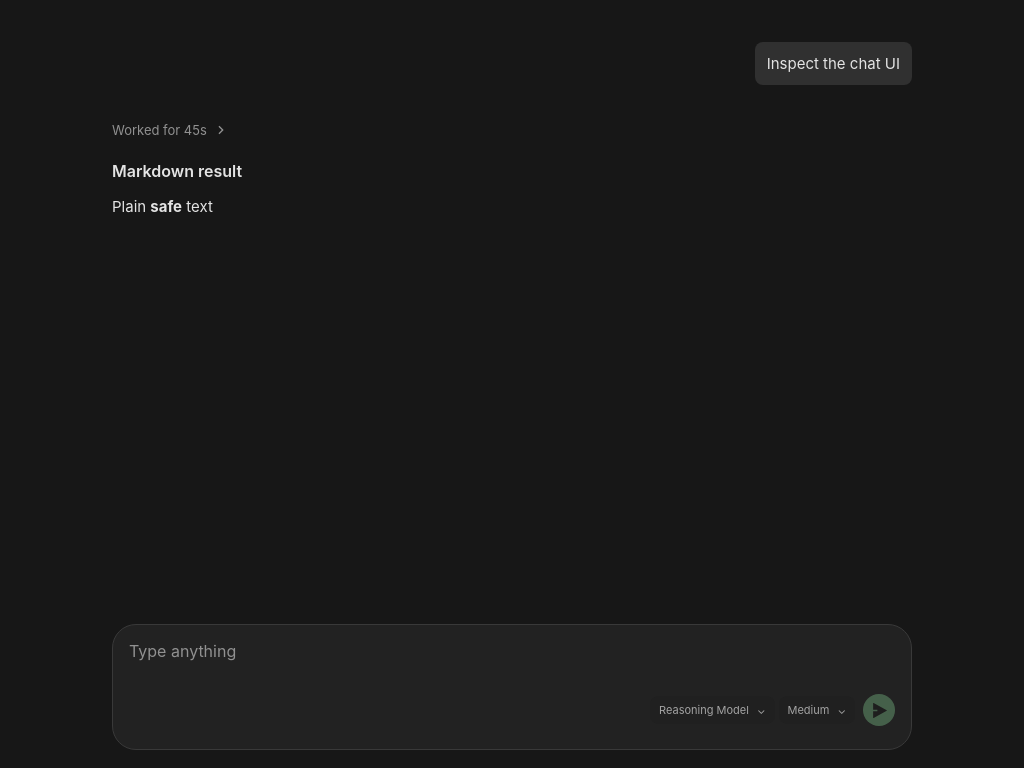
ChatView › renders only the final answer until the work summary is expanded
Expected: the heading "Markdown result" is shown, [112,161,242,181]
Expected: the text "Thinking" is not shown
Click the heading "Worked for 45s" at (170, 131), box [112,119,229,143]
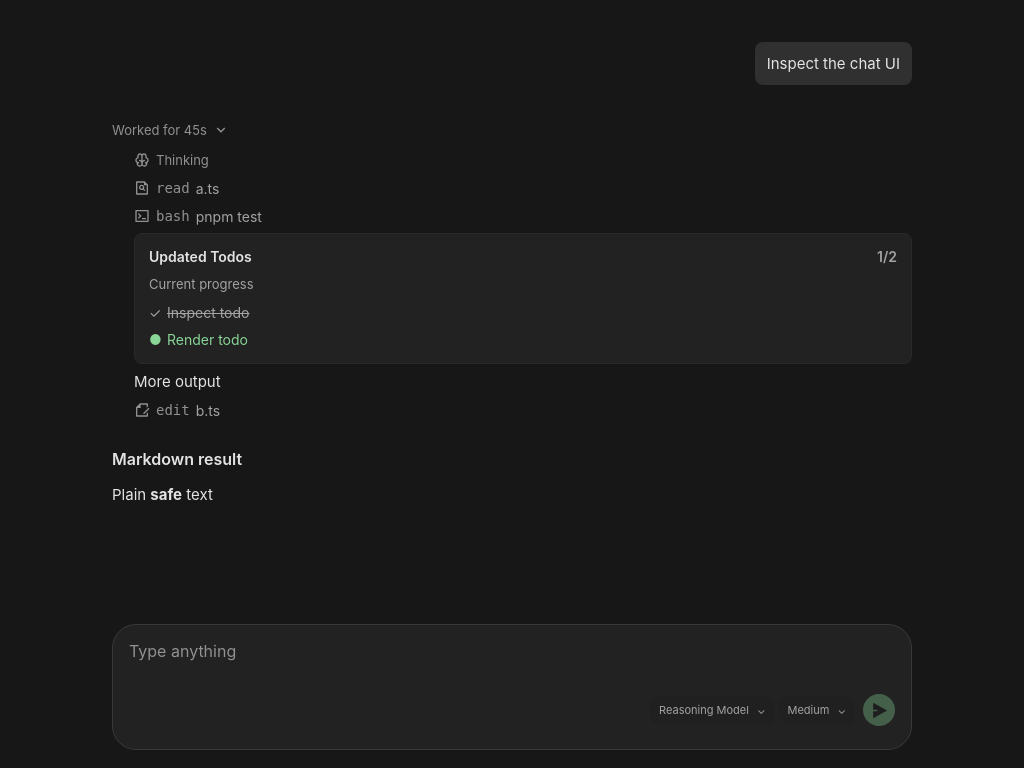
Now the text "Thinking" is shown, box [156,150,209,170]
Click the heading "Thinking" at (171, 160), box [134,152,209,168]
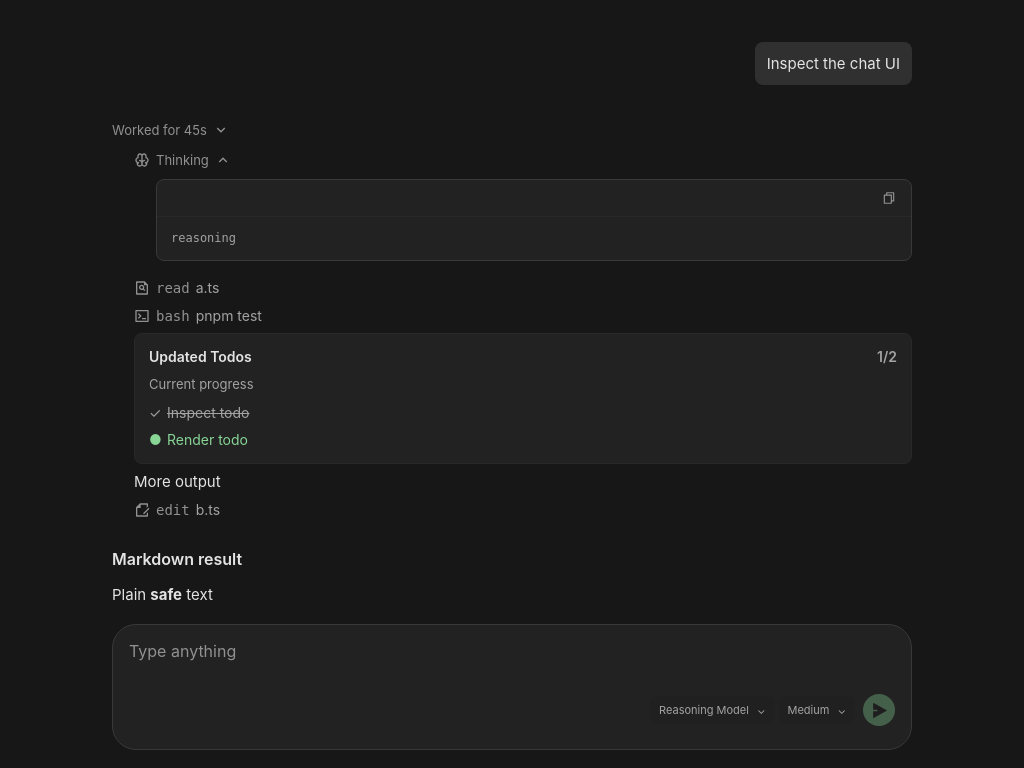
Now the text "read" is shown, box [156,277,190,299]
Now the text "edit" is shown, box [156,499,190,521]
Now the text "reasoning" is shown, box [171,231,236,245]
